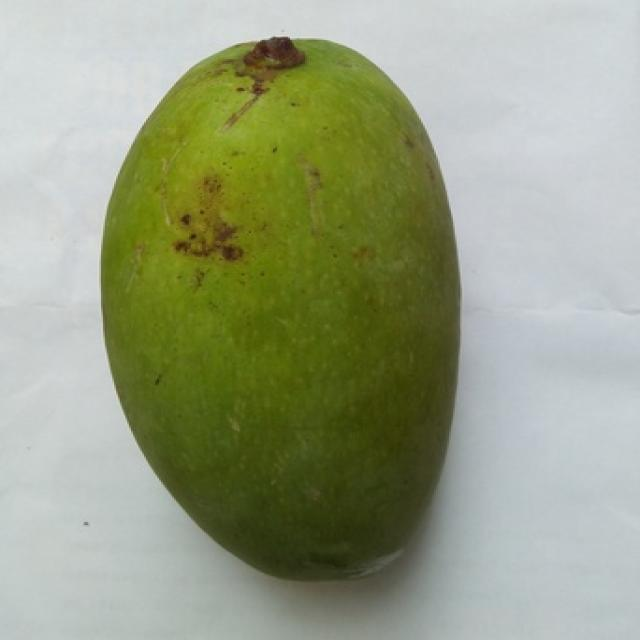Mango: (103, 38, 458, 575)
